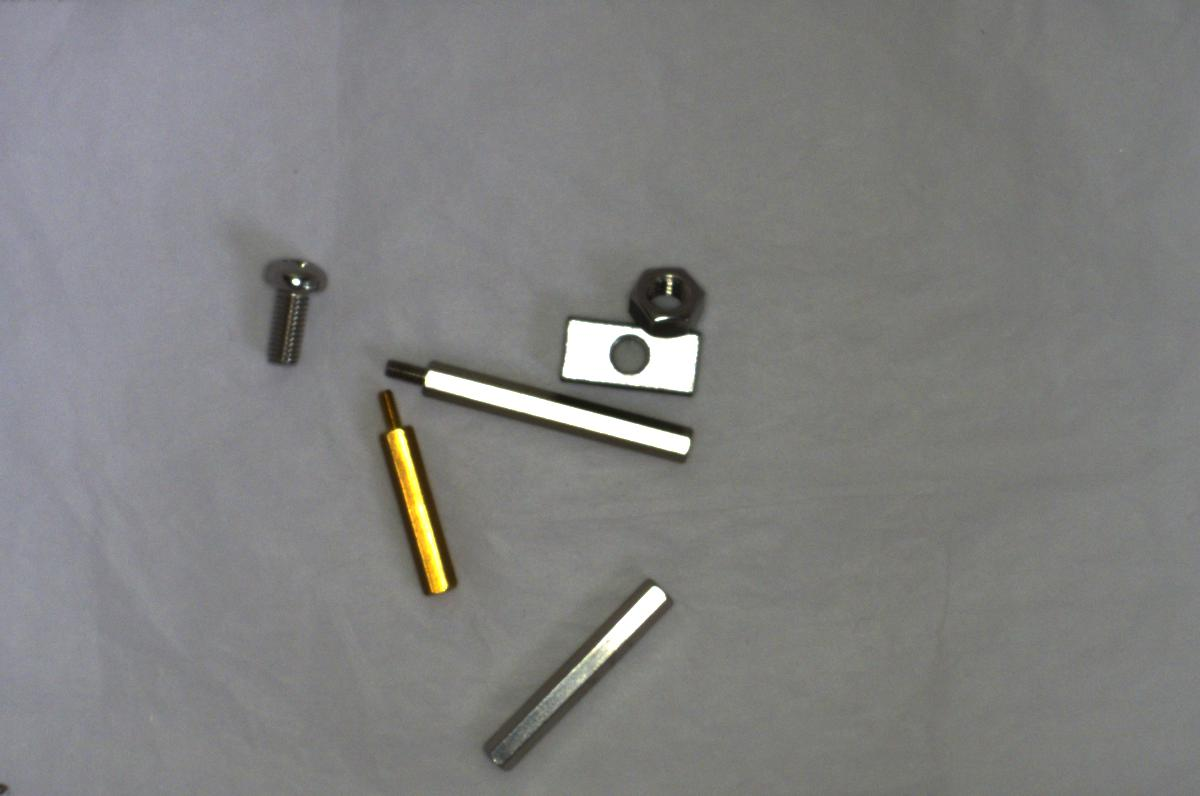Double hexagonal column: (478, 569, 679, 768)
Hexagon nut: (624, 254, 711, 342)
Hexagon pillar: (375, 380, 465, 601)
Hexagonal steel column: (380, 350, 702, 463)
Rectangular nut: (548, 313, 724, 399)
Round head screw: (250, 248, 328, 372)
